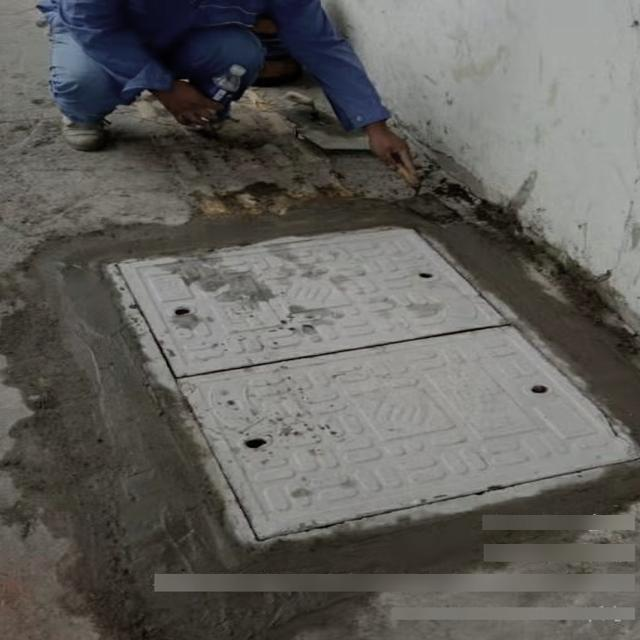good: (111, 222, 640, 543)
